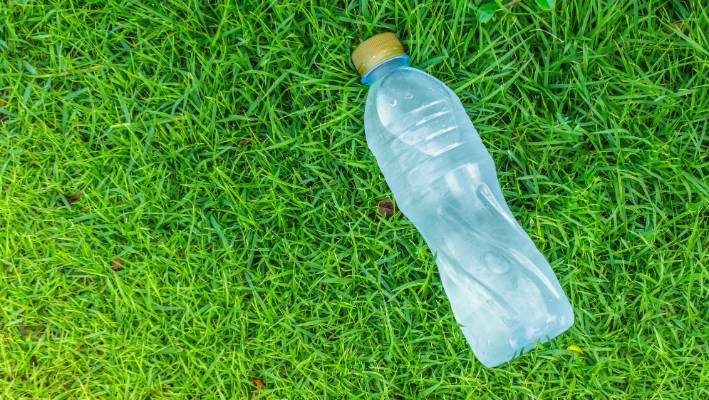plastic_bottle: (347, 27, 581, 376)
